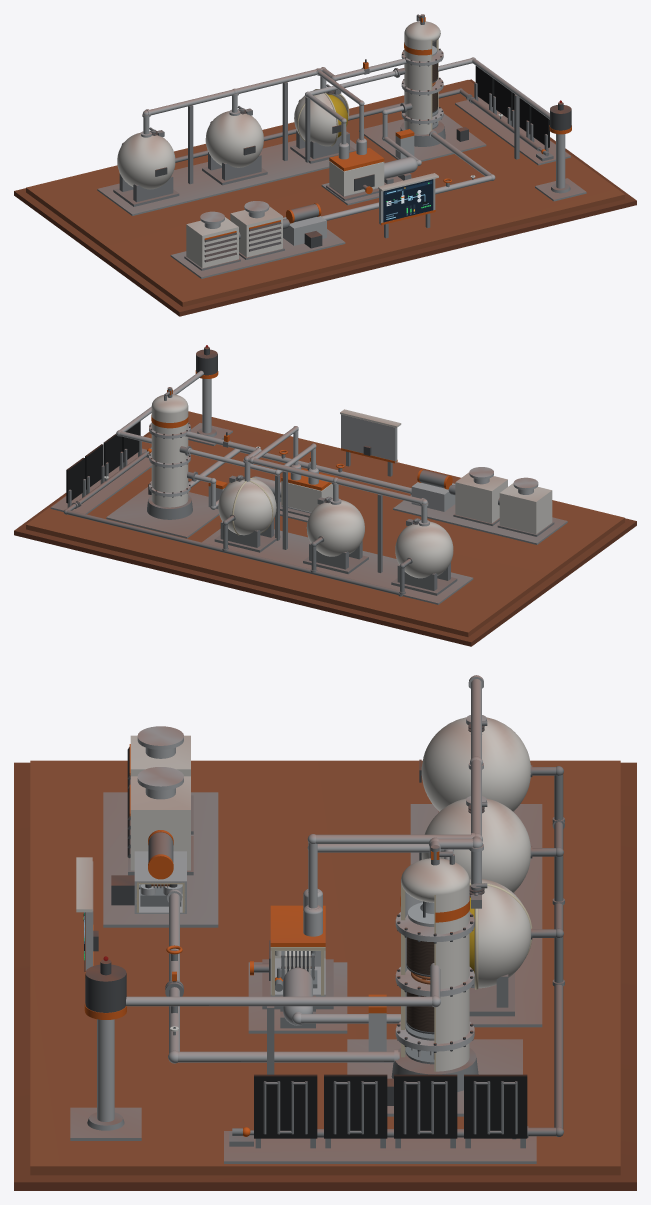
The picture shows the model from 3 angles, top to bottom: view 1: azimuth 30°, elevation 25°; view 2: azimuth 150°, elevation 25°; view 3: azimuth 270°, elevation 25°; orthographic projection. The views are drawn at different scales.
Visible parts, largest first — view 1: platform, cryo_tanks, piping, co2_intake, reactor, electrolysis, radiators, emit_hmi_screen, flare, display, condenser; view 2: platform, cryo_tanks, piping, co2_intake, reactor, radiators, display, electrolysis, flare; view 3: platform, piping, cryo_tanks, radiators, reactor, co2_intake, electrolysis, flare, serpentine, display, condenser, catalyst_bed_2 (+5 smaller).
Boxes of the visible parts, box(x1,y1,x2,y2) form: platform: box(14, 79, 636, 316); cryo_tanks: box(113, 89, 356, 206); piping: box(121, 57, 549, 220); co2_intake: box(184, 201, 326, 270); reactor: box(394, 14, 468, 159); electrolysis: box(321, 147, 411, 205); radiators: box(474, 66, 549, 151); emit_hmi_screen: box(383, 179, 433, 222); flare: box(549, 102, 571, 193); display: box(378, 173, 438, 238); condenser: box(384, 157, 417, 184); platform: box(14, 411, 636, 646); cryo_tanks: box(214, 477, 457, 595); piping: box(63, 370, 428, 596); co2_intake: box(411, 467, 554, 536); reactor: box(147, 387, 227, 519); radiators: box(66, 421, 141, 507); display: box(340, 409, 401, 476); electrolysis: box(280, 468, 335, 522); flare: box(195, 347, 218, 436); platform: box(14, 760, 636, 1190); piping: box(126, 675, 564, 1139); cryo_tanks: box(419, 715, 532, 1016); radiators: box(254, 1074, 527, 1148); reactor: box(368, 845, 478, 1105); co2_intake: box(127, 726, 193, 913); electrolysis: box(248, 905, 347, 1033); flare: box(84, 959, 126, 1130); serpentine: box(263, 1081, 517, 1134); display: box(76, 857, 98, 977); condenser: box(280, 967, 315, 1028); catalyst_bed_2: box(406, 937, 434, 976).
Size of the model in its own units: 36.2 by 10.05 by 22.7.
